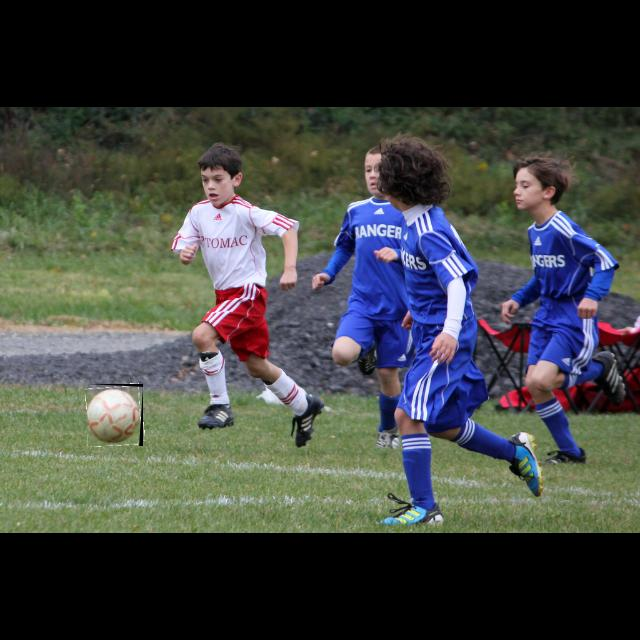Football: (87, 384, 143, 446)
